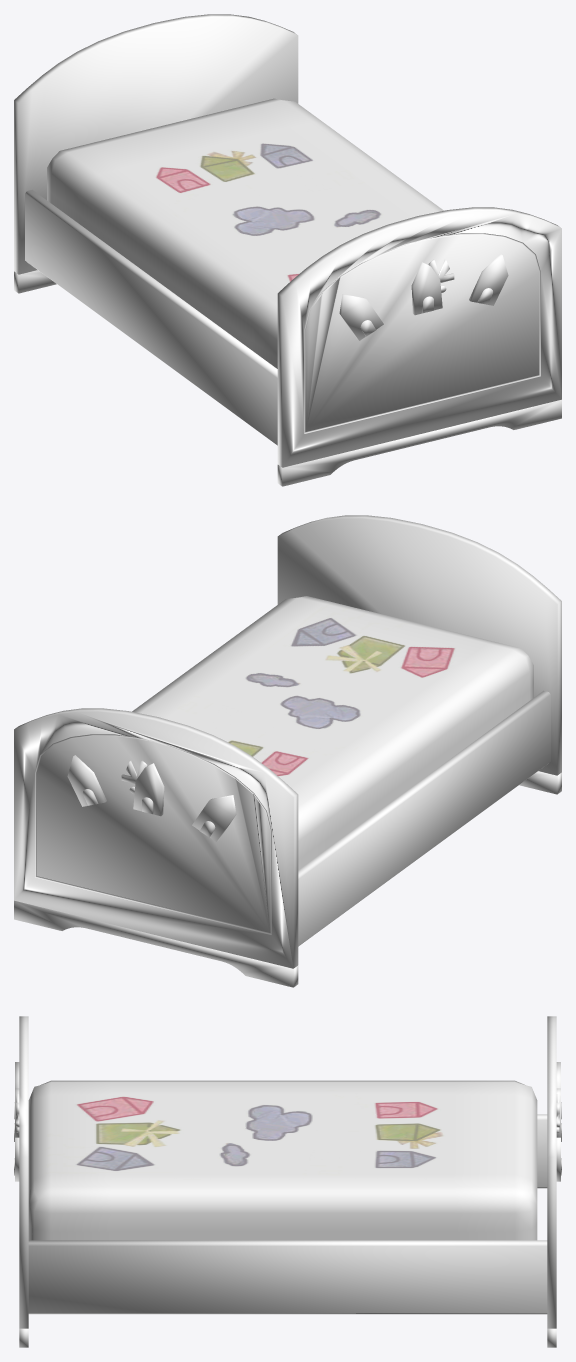
The model's file is bed01.obj.
The picture shows the model from 3 angles, top to bottom: view 1: azimuth 30°, elevation 25°; view 2: azimuth 150°, elevation 25°; view 3: azimuth 270°, elevation 25°; orthographic projection.
Parts seen in each view (by area): view 1: Rectangle01; view 2: Rectangle01; view 3: Rectangle01.
Part boxes in pixels (x1,y1,x2,y2): Rectangle01: (14, 14, 561, 486); Rectangle01: (14, 515, 561, 987); Rectangle01: (14, 1016, 561, 1347).
Bounding box in the file's own units: 918 × 731 × 1557.
